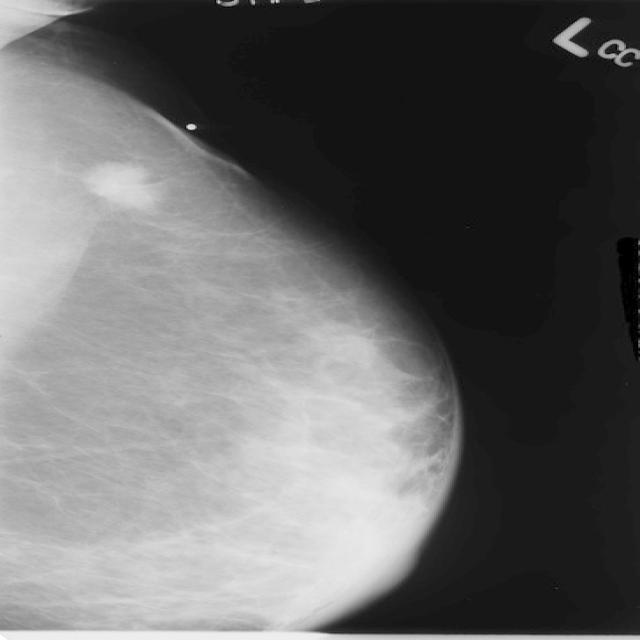tumour: (83, 159, 158, 210)
